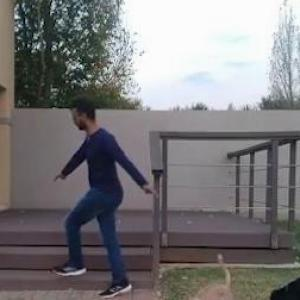land: (44, 92, 192, 298)
